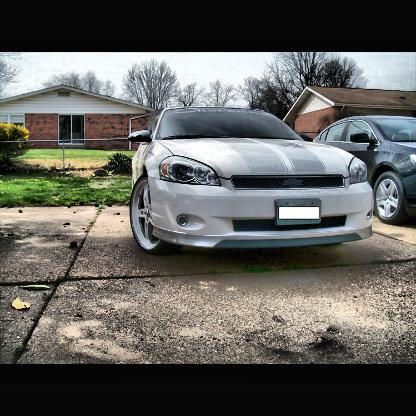Chevrolet Monte Carlo Coupe 2007: (130, 107, 377, 256)
